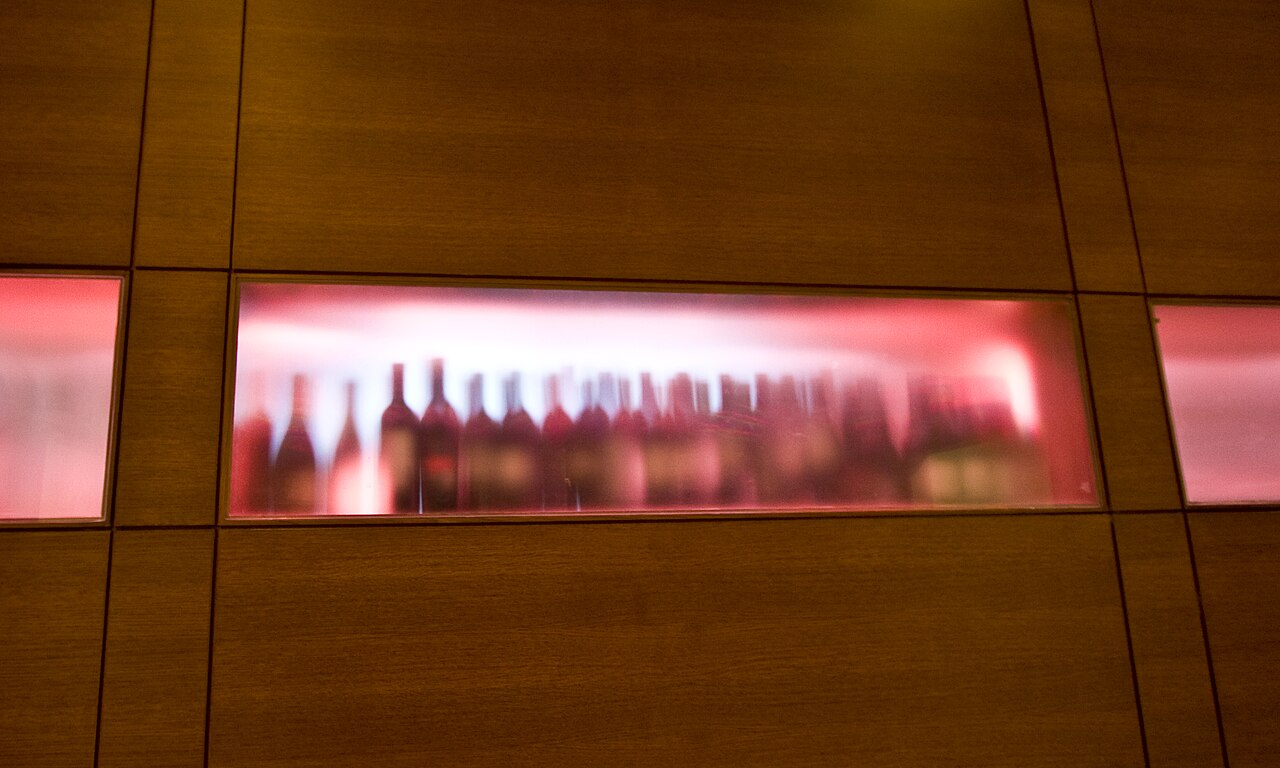unknown_bottle: (270, 373, 323, 516), (491, 370, 543, 511), (376, 362, 421, 514), (419, 356, 462, 514), (326, 378, 367, 515), (461, 373, 500, 510)
